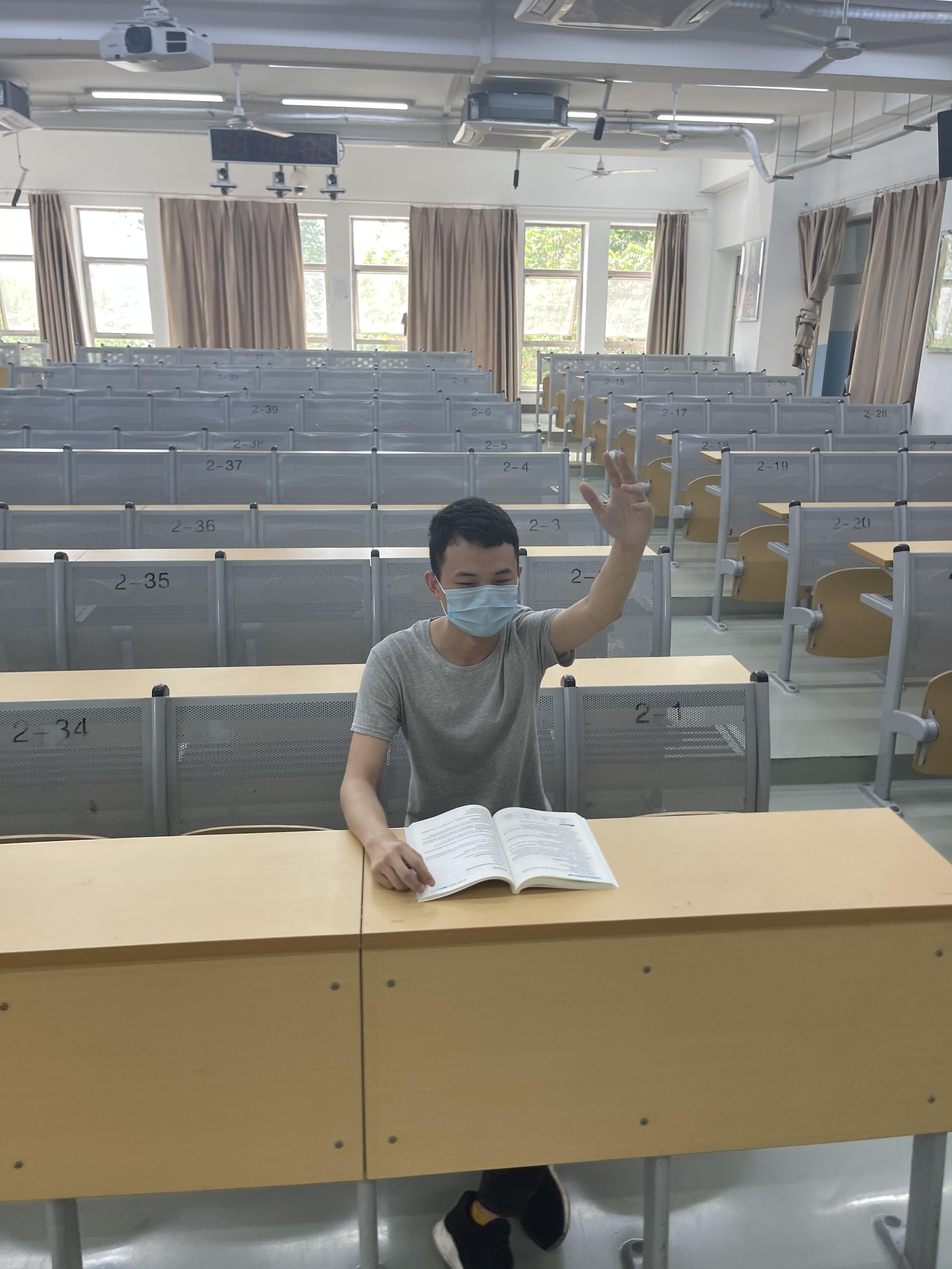study: (344, 453, 648, 891)
